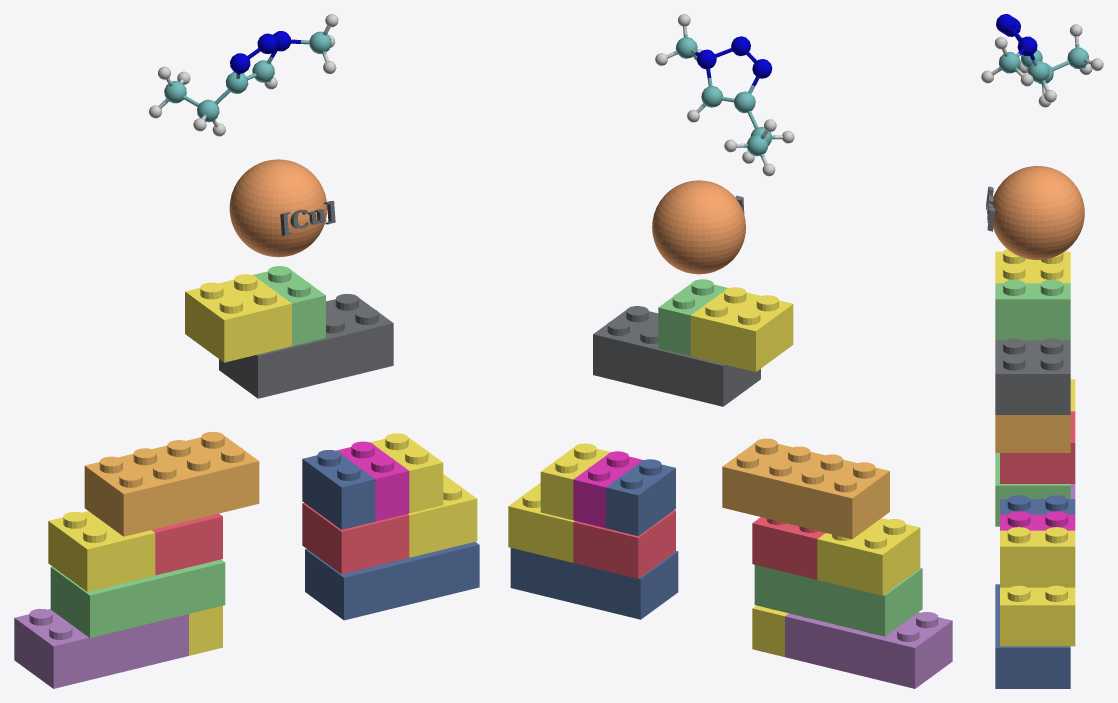
Rendered from click2C.glb.
3 renders of one model, left to right at view 1: azimuth 30°, elevation 25°; view 2: azimuth 150°, elevation 25°; view 3: azimuth 270°, elevation 25°, orthographic. The views are drawn at different scales.
Parts seen in each view (by area): view 1: obj_5, obj_4, obj_5.001, clC; view 2: obj_5, obj_4, obj_5.001, clC; view 3: obj_4, obj_5.001, obj_5, clC.
Part boxes in pixels (x1,y1,x2,y2): obj_5: (14, 431, 259, 688); obj_4: (185, 159, 393, 398); obj_5.001: (302, 433, 479, 620); clC: (149, 14, 338, 136); obj_5: (722, 438, 952, 688); obj_4: (593, 180, 793, 406); obj_5.001: (508, 443, 678, 619); clC: (655, 14, 794, 176); obj_4: (986, 166, 1084, 414); obj_5.001: (995, 495, 1075, 688); obj_5: (995, 379, 1075, 526); clC: (981, 14, 1103, 107).
Bounding box in the file's own units: 5 × 6.83 × 1.3.
